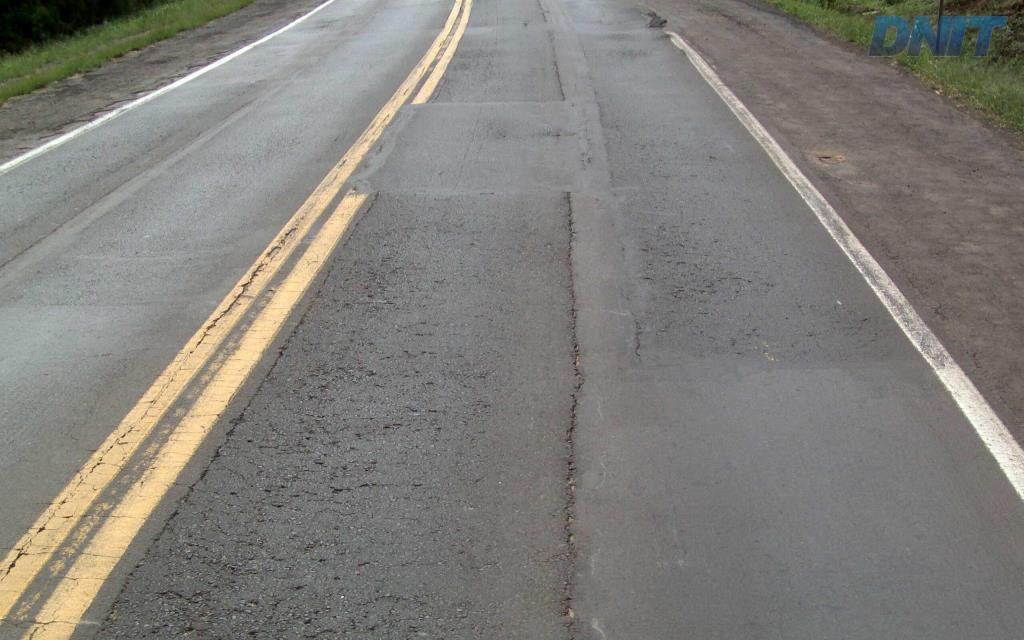crack: (121, 537, 340, 639), (550, 481, 577, 568), (165, 480, 198, 543), (303, 356, 377, 384), (562, 393, 577, 481)
